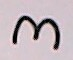sum: (8, 10, 65, 54)
